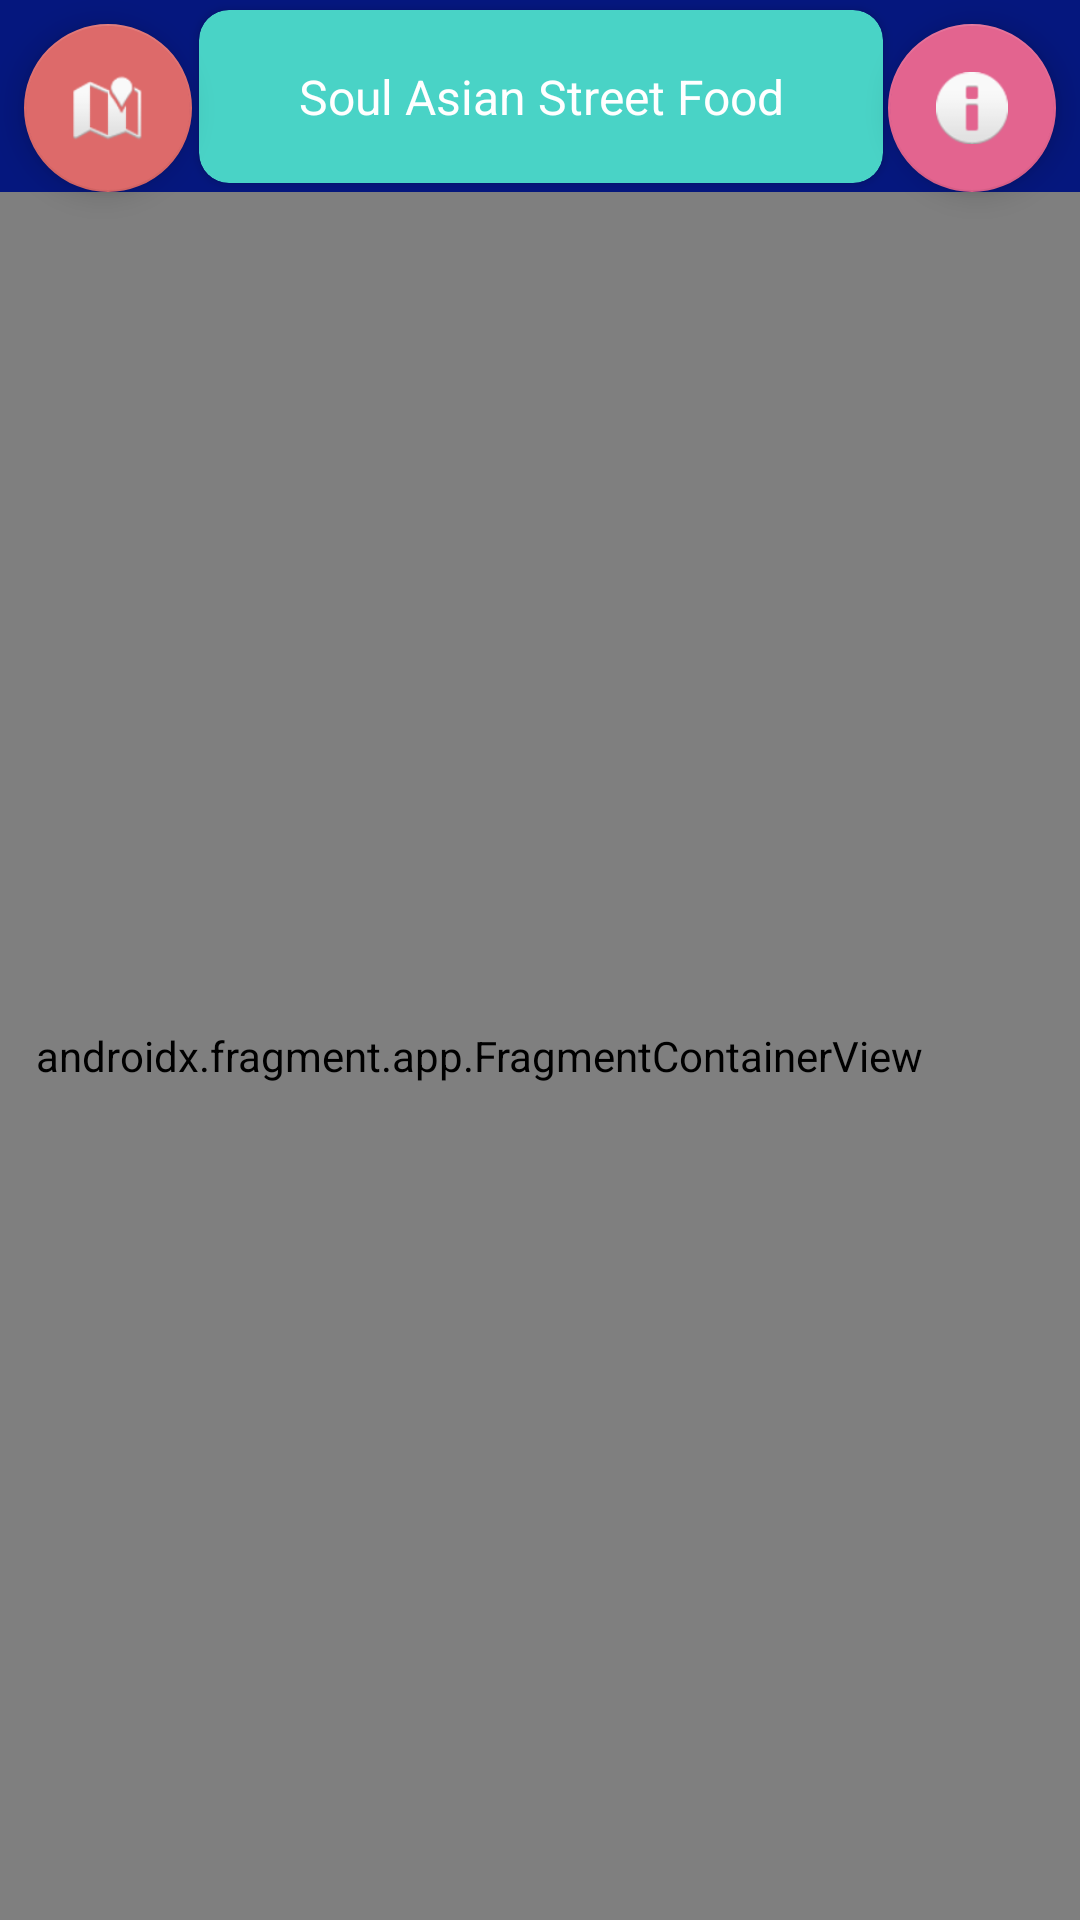

Icons on this 1080*1920 Android screen, each with the point to tap as [x,y]:
info: [972,108]
map: [108,108]
